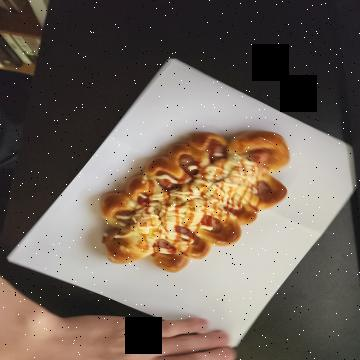pizza_bread: (122, 67, 268, 263)
